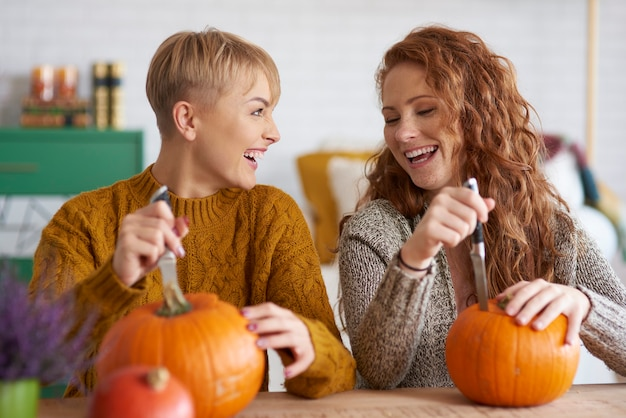knife: (468, 221, 492, 310), (155, 255, 187, 312)
